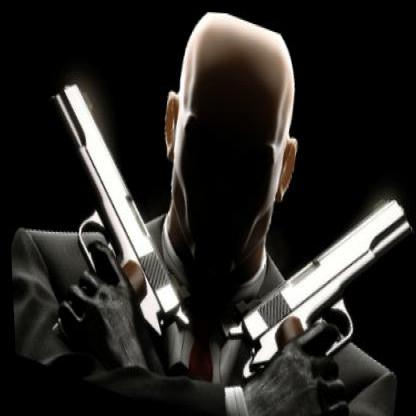pistol: (2, 67, 225, 378), (196, 132, 415, 415)
